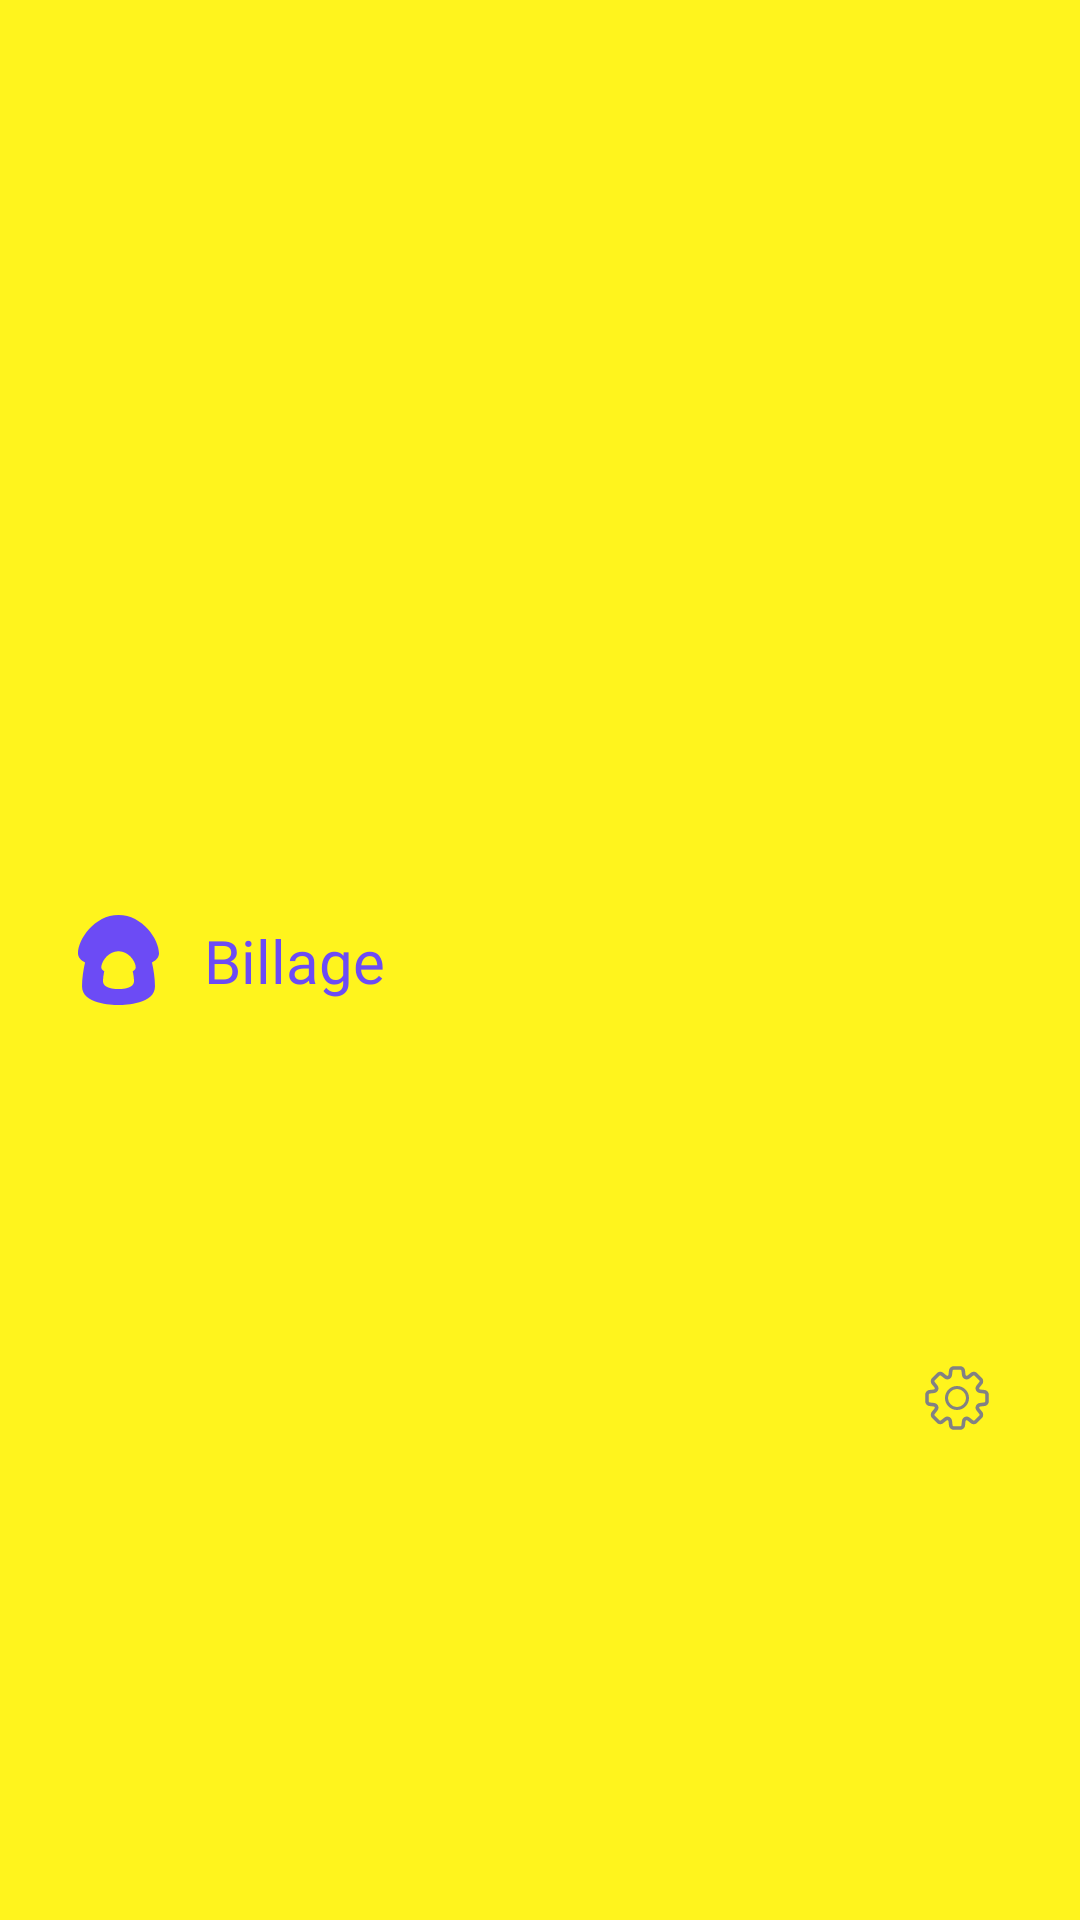

Icons on this 1080px×1920px Android screen, each with the point to tap as point (x, y):
setting: point (957, 1398)
